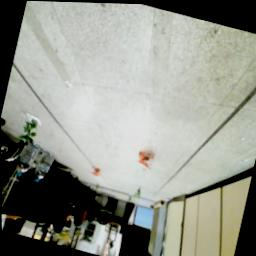herb: (17, 115, 41, 150), (89, 163, 103, 179), (134, 187, 143, 200)
wild: (134, 148, 158, 172)
